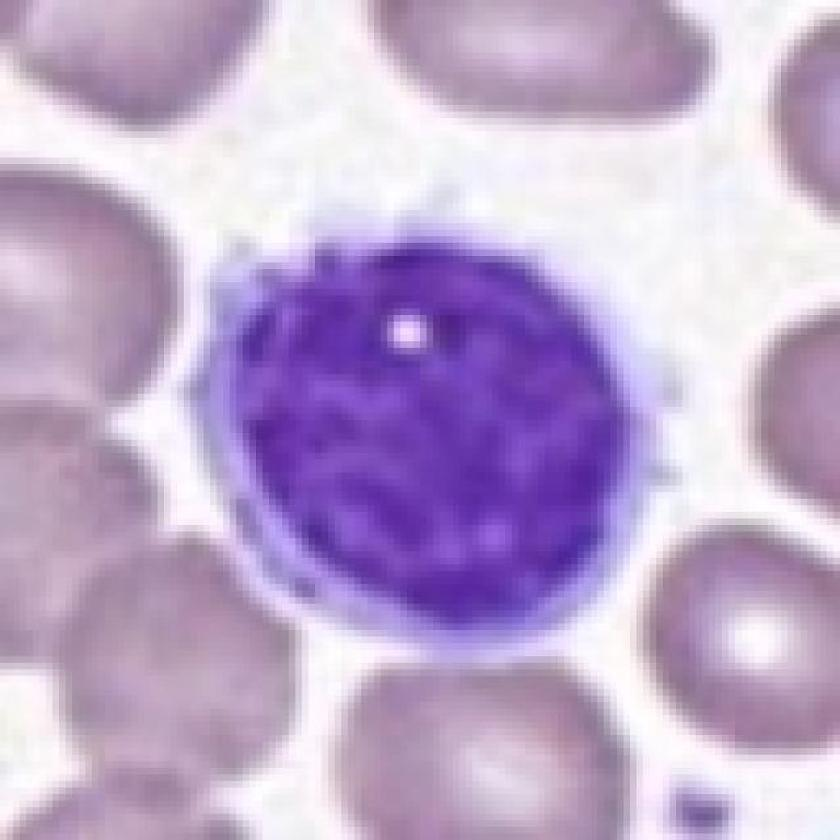lymphocyte: (177, 160, 689, 653)
